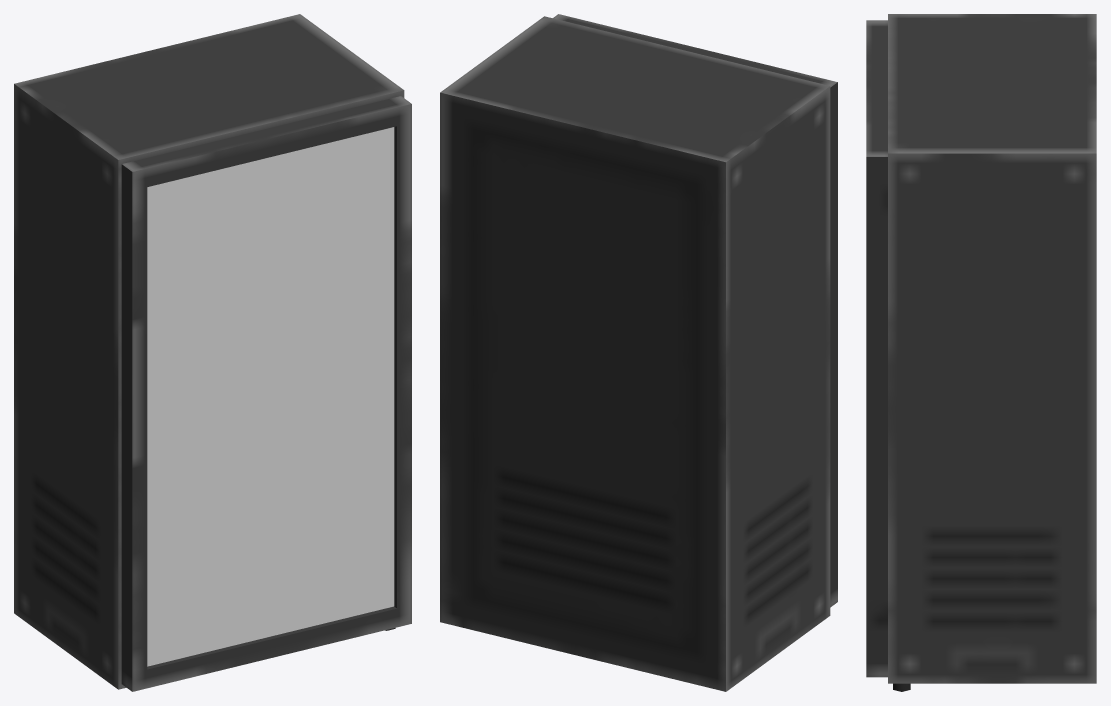
The model's file is Refrigerator_002.FBX.
3 views of the same model, side by side, from view 1: azimuth 30°, elevation 25°; view 2: azimuth 150°, elevation 25°; view 3: azimuth 270°, elevation 25° (orthographic).
Parts seen in each view (by area): view 1: Refrigerator_002_Door_Glass, Refrigerator_002, Refrigerator_002_Door; view 2: Refrigerator_002, Refrigerator_002_Door; view 3: Refrigerator_002, Refrigerator_002_Door.
Part boxes in pixels (bbox=[...]): Refrigerator_002_Door_Glass: bbox=[147, 127, 394, 666]; Refrigerator_002: bbox=[14, 14, 404, 689]; Refrigerator_002_Door: bbox=[121, 96, 411, 691]; Refrigerator_002: bbox=[440, 16, 830, 691]; Refrigerator_002_Door: bbox=[553, 14, 837, 607]; Refrigerator_002: bbox=[888, 14, 1096, 691]; Refrigerator_002_Door: bbox=[866, 20, 887, 677].
Bounding box in the file's own units: 100 × 69.68 × 180.
